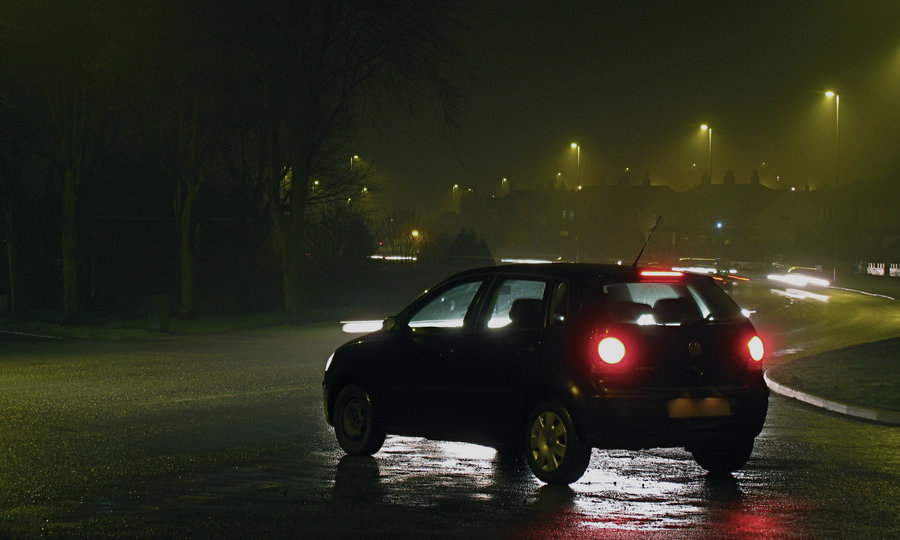car: (312, 252, 780, 492)
